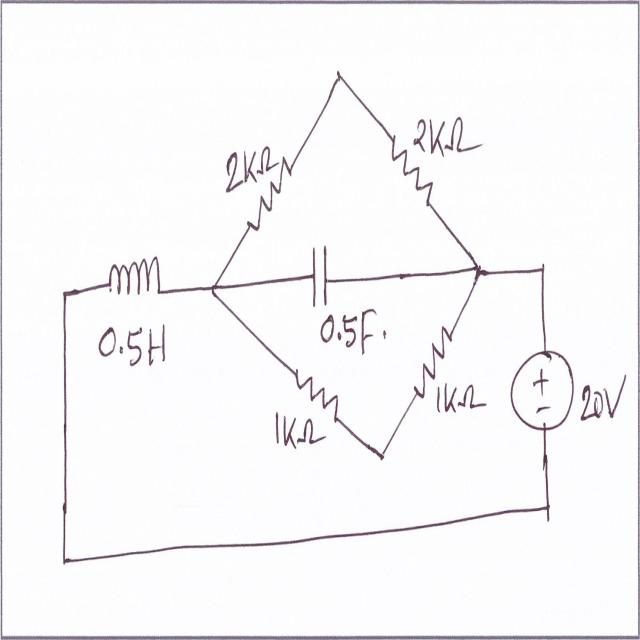capacitor: (308, 240, 329, 311)
inductor: (105, 250, 166, 306)
resistor: (413, 318, 458, 400), (294, 358, 343, 430), (391, 128, 434, 210), (247, 158, 291, 237)
voltage_source: (508, 336, 580, 443)
